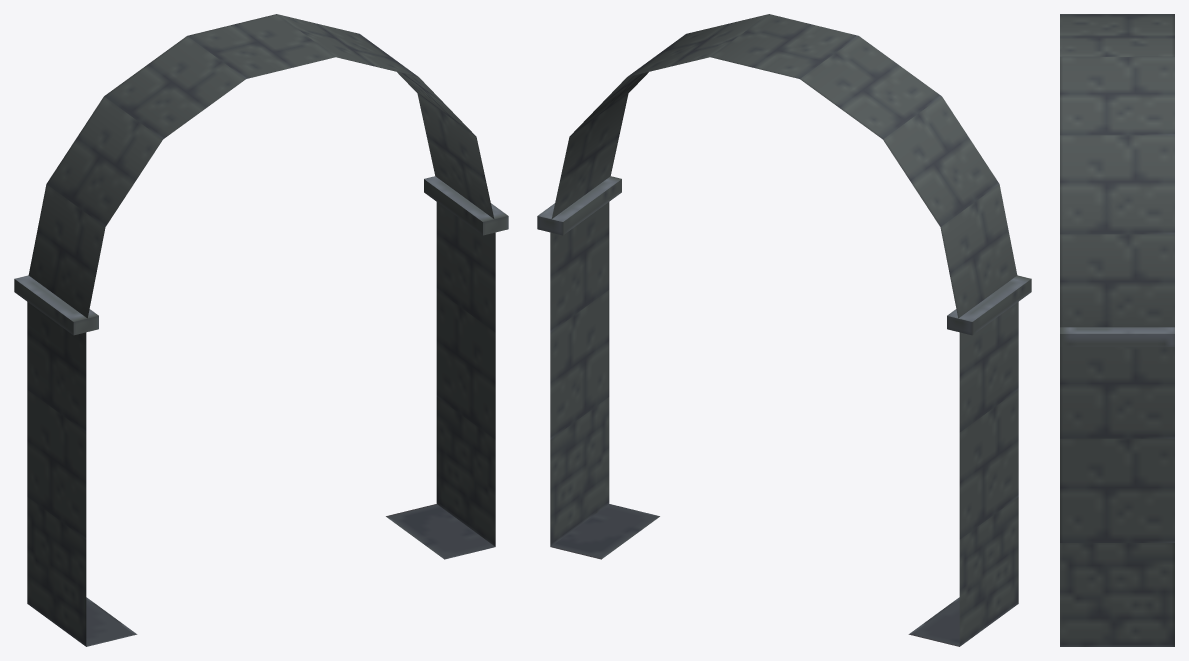
Rendered from arch_inside_large.fbx.
The picture shows the model from 3 angles, left to right: view 1: azimuth 30°, elevation 25°; view 2: azimuth 150°, elevation 25°; view 3: azimuth 270°, elevation 25°; orthographic projection. The views are drawn at different scales.
Parts seen in each view (by area): view 1: arch_inside_large; view 2: arch_inside_large; view 3: arch_inside_large.
Part boxes in pixels (left/top/right/bottom): arch_inside_large: left=14, top=14, right=508, bottom=646; arch_inside_large: left=537, top=14, right=1031, bottom=646; arch_inside_large: left=1060, top=14, right=1174, bottom=646.
Bounding box in the file's own units: 68 × 79 × 16.
